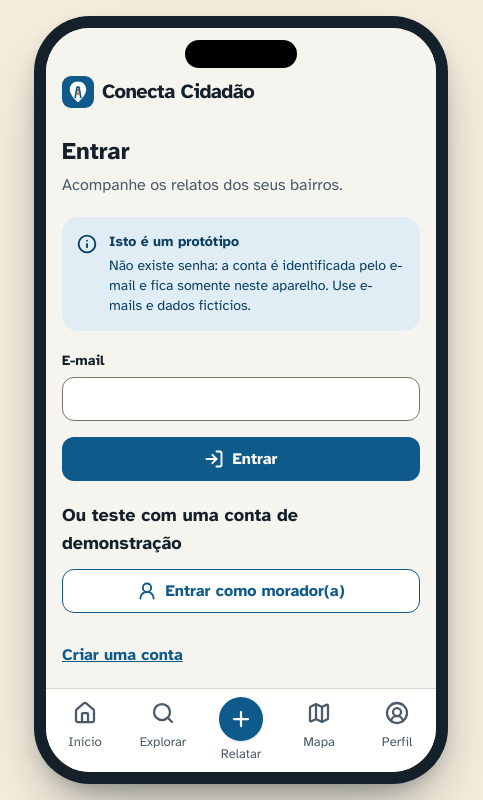
configurações › privacidade: troca como o nome aparece e mostra no perfil
The image size is (483, 800).
Click the button "Entrar como morador(a)".
click(241, 591)  # box [62,569,420,613]
(page scrolled)
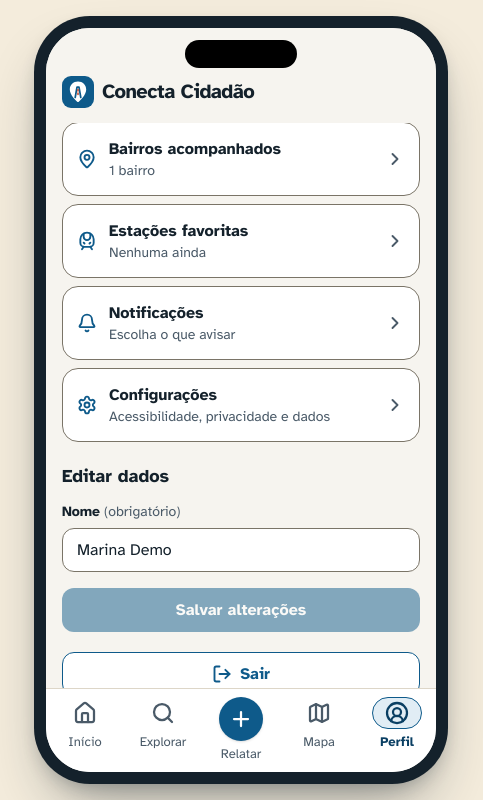
Click the link "Configurações Acessibilidade, privacidade e dados".
click(241, 405)  # box [62,368,420,442]
(page scrolled)
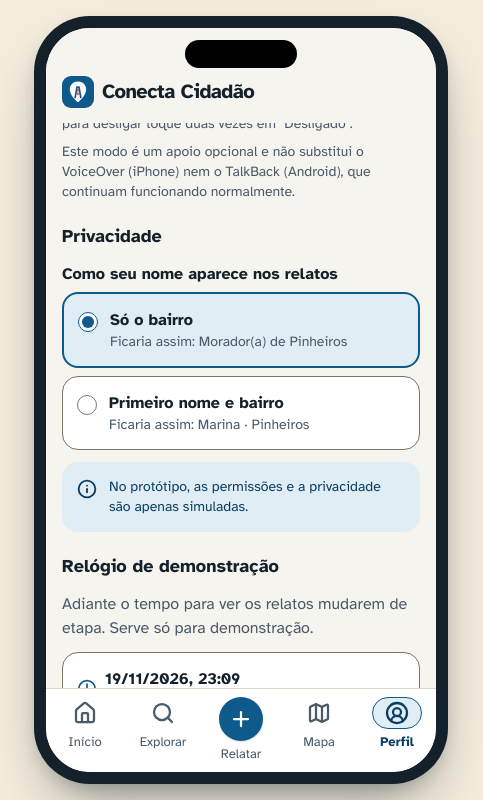
Click the radio button labelled "Primeiro nome e bairro Ficaria assim: Marina · Pinheiros".
click(87, 405)  # box [77,395,97,415]
(page scrolled)
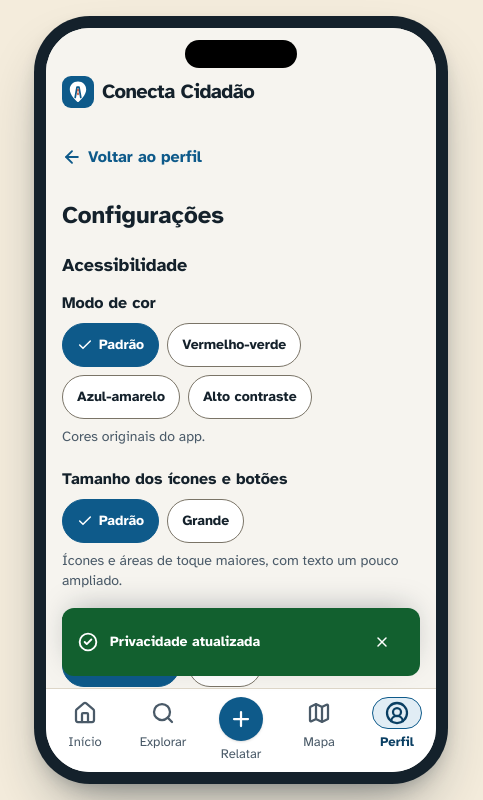
Now the text "Privacidade atualizada" is shown, box [110,633,260,650]
Click the link "Voltar ao perfil".
click(132, 157)  # box [62,147,202,167]
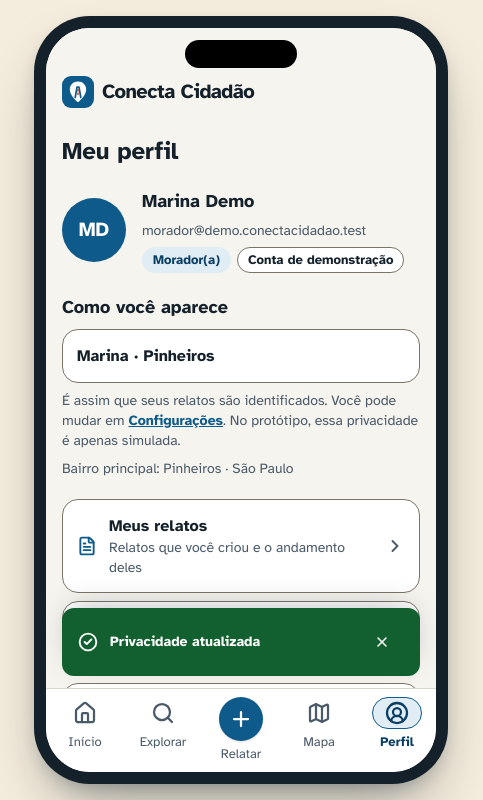
Now the text "Marina · Pinheiros" is shown, box [62,329,420,383]
